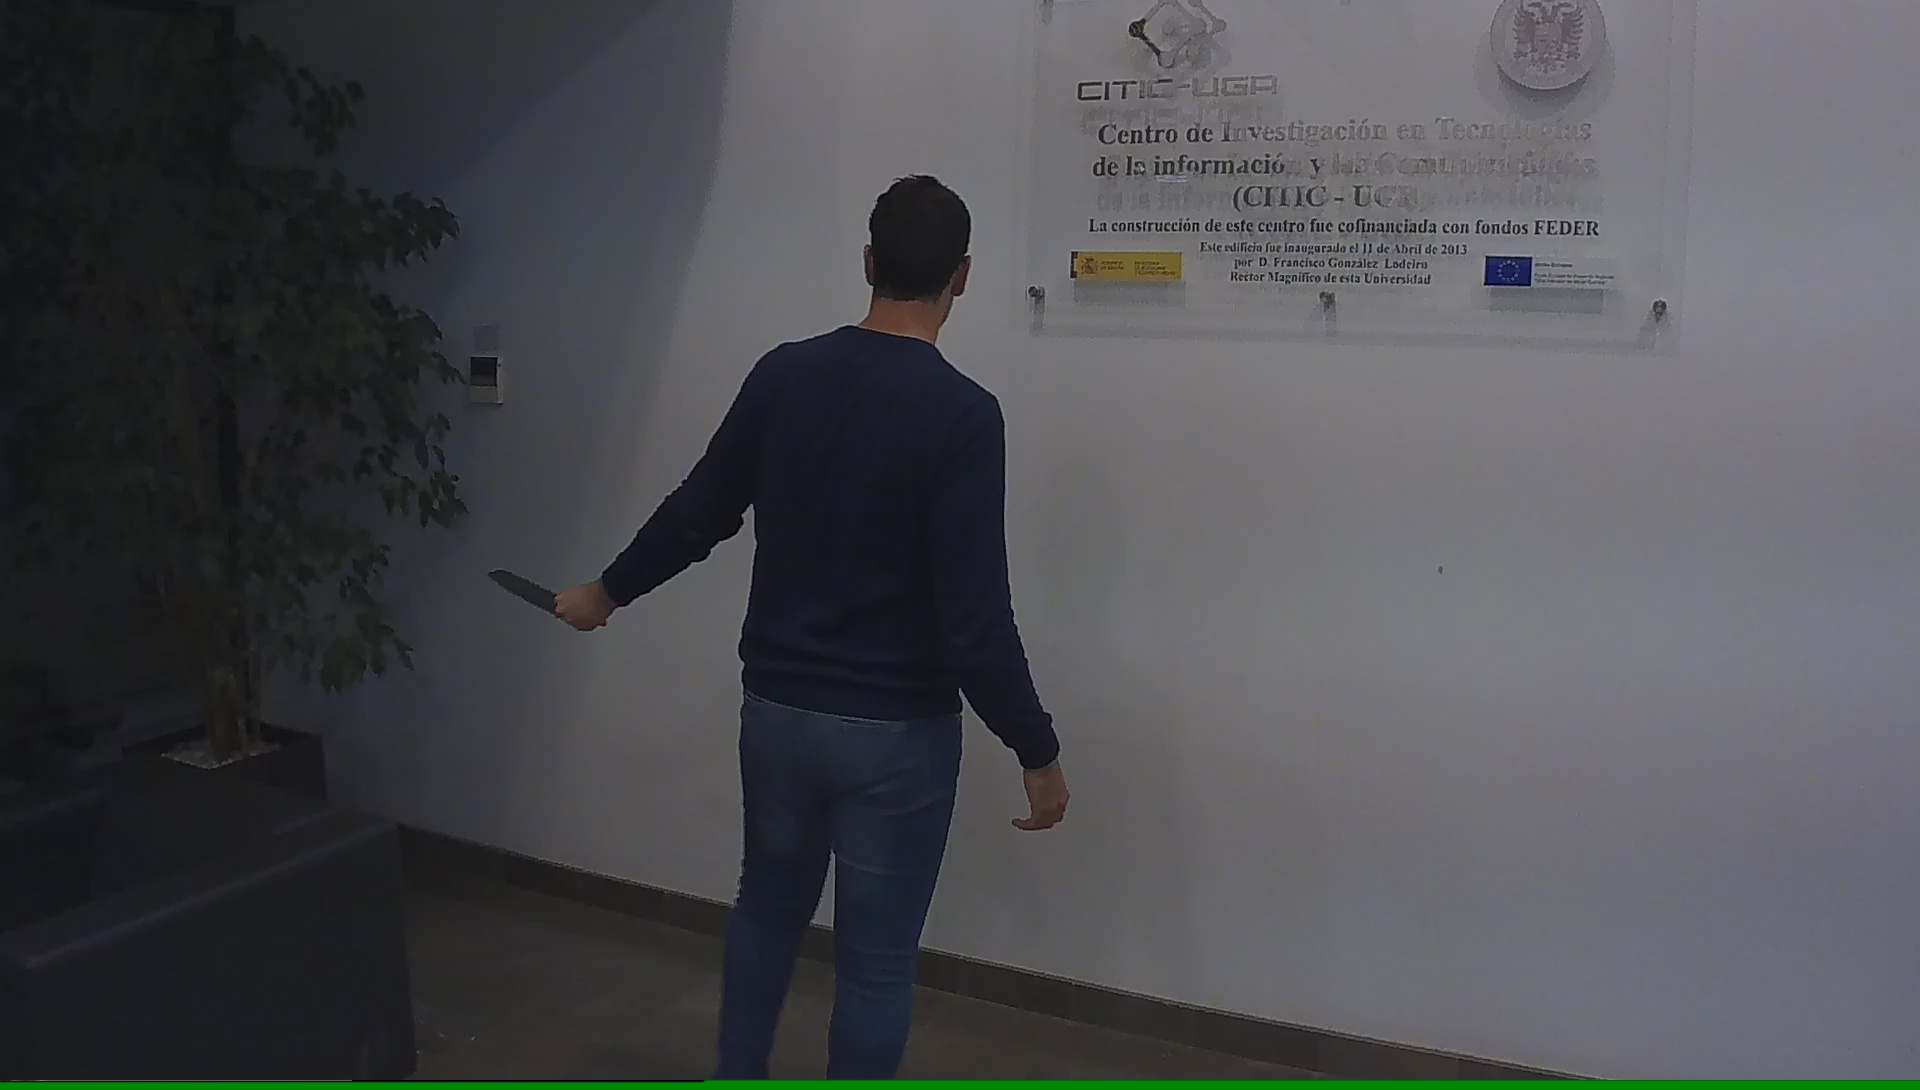knife: (479, 558, 593, 635)
